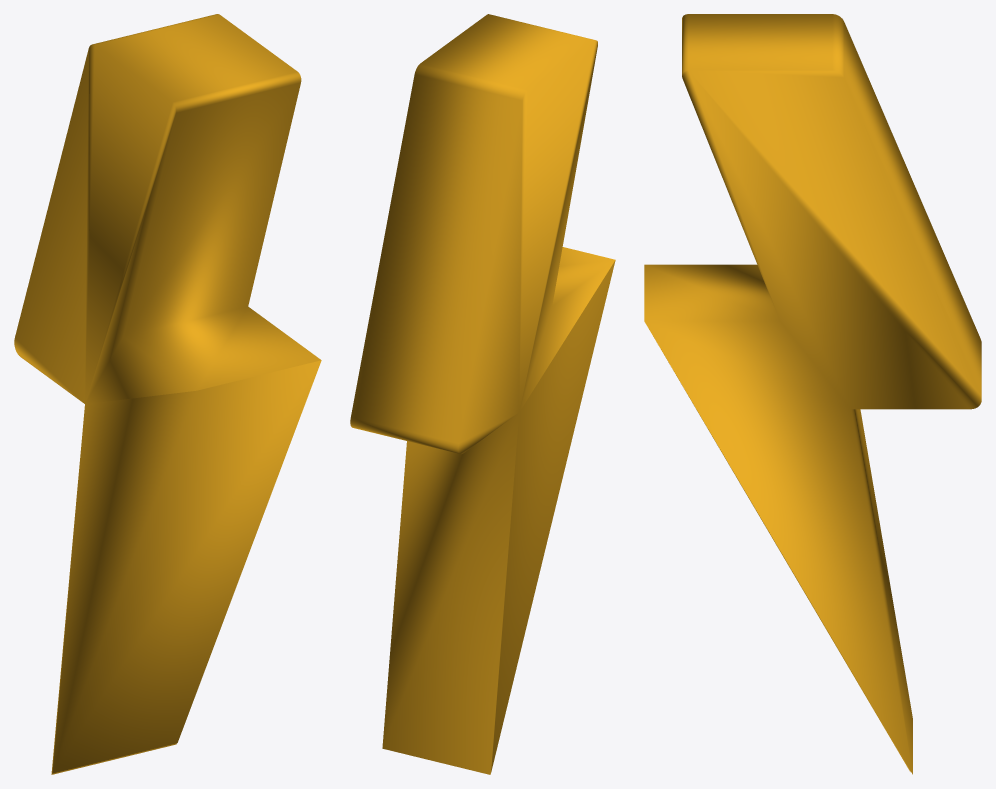
Rendered from Energy.fbx.
3 views of the same model, side by side, from view 1: azimuth 30°, elevation 25°; view 2: azimuth 150°, elevation 25°; view 3: azimuth 270°, elevation 25° (orthographic). The views are drawn at different scales.
Visible parts, largest first — view 1: Plane; view 2: Plane; view 3: Plane.
Boxes of the visible parts, bbox=[...] form: Plane: bbox=[14, 14, 321, 774]; Plane: bbox=[350, 14, 615, 774]; Plane: bbox=[644, 14, 981, 774].
Size of the model in its own units: 28.99 by 169 by 73.26.
